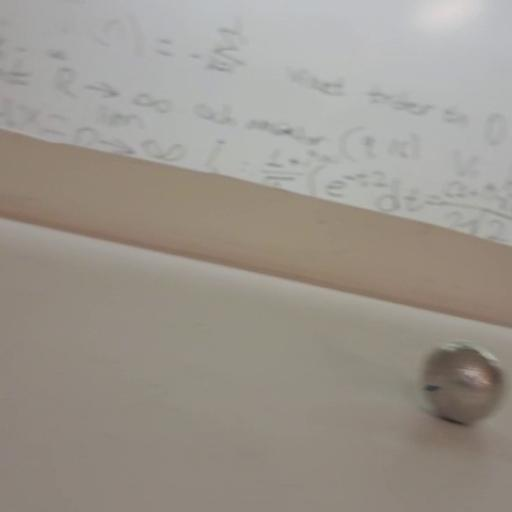alive: (419, 343, 503, 426)
